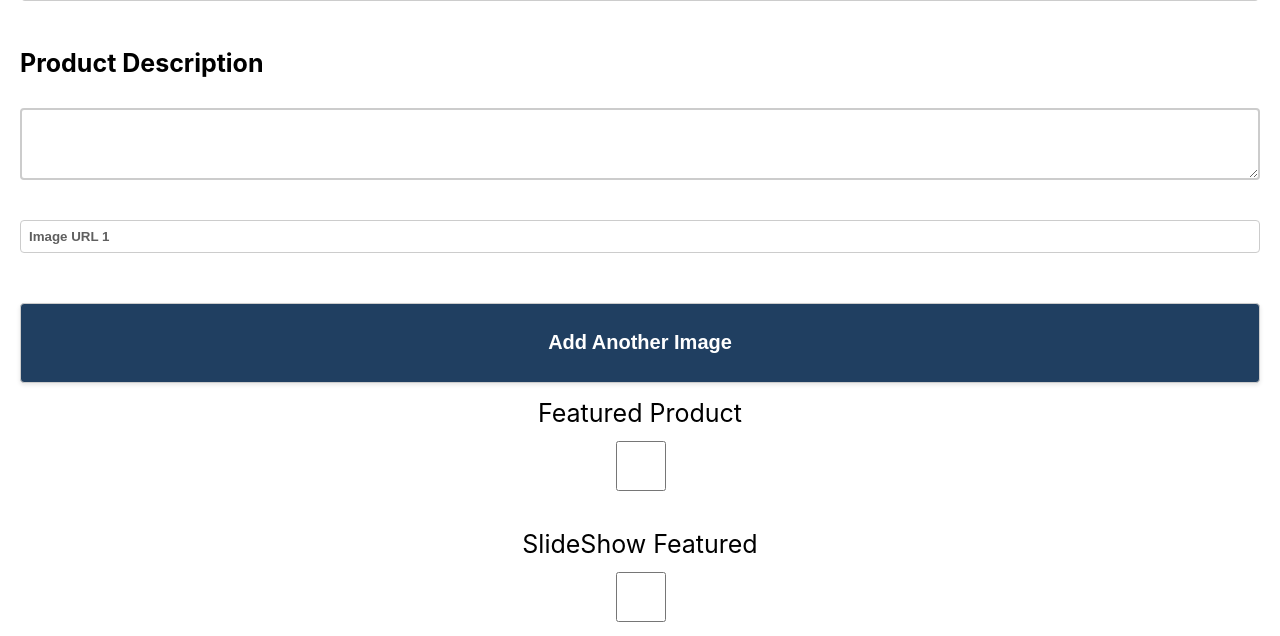
Scenario: AddProductForm Component › adds another image field when button is clicked
(page scrolled)
Click the button "Add Another Image" at (640, 342), box [20,302,1260,382]
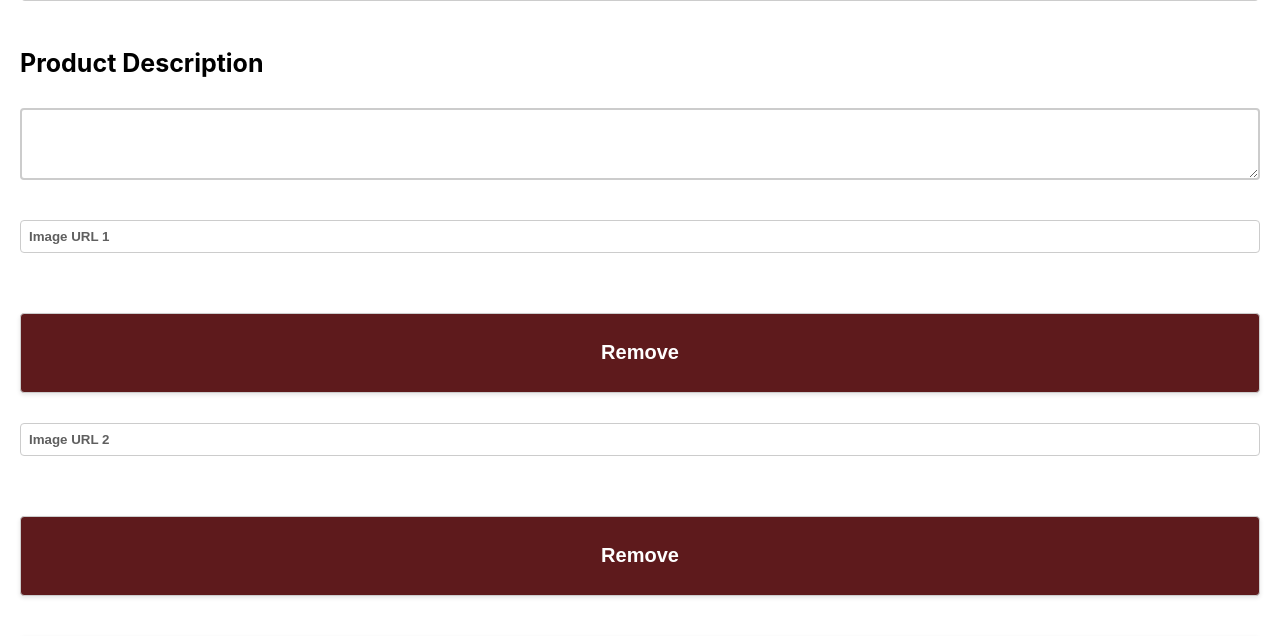
Result: the number of fields with placeholder "Image URL 1" is 2 at [20,220,1260,252]; [20,422,1260,456]
